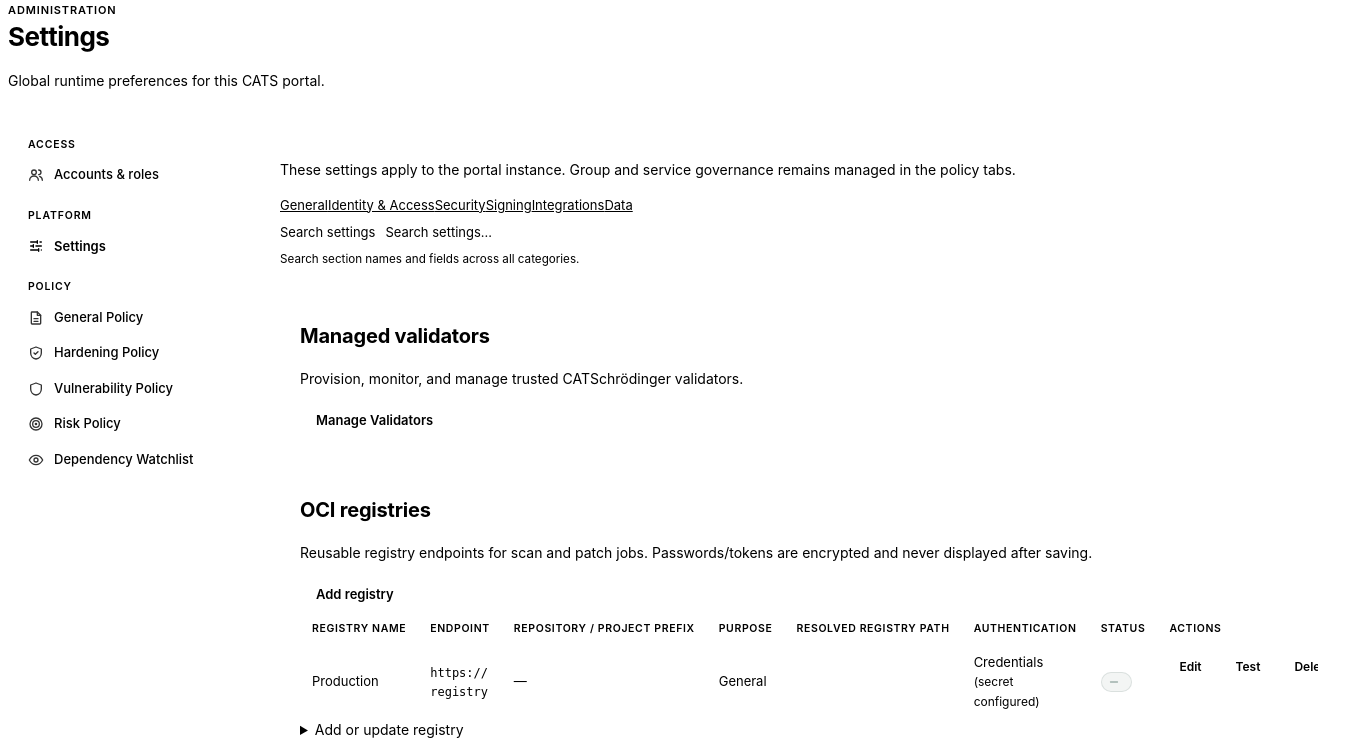
Scenario: native administration workflows › keeps editor credentials blank and preserves forms and unsaved inputs through search
The image size is (1366, 741).
Click the button "Edit" at (1190, 667), box [1169, 653, 1212, 681]
(page scrolled)
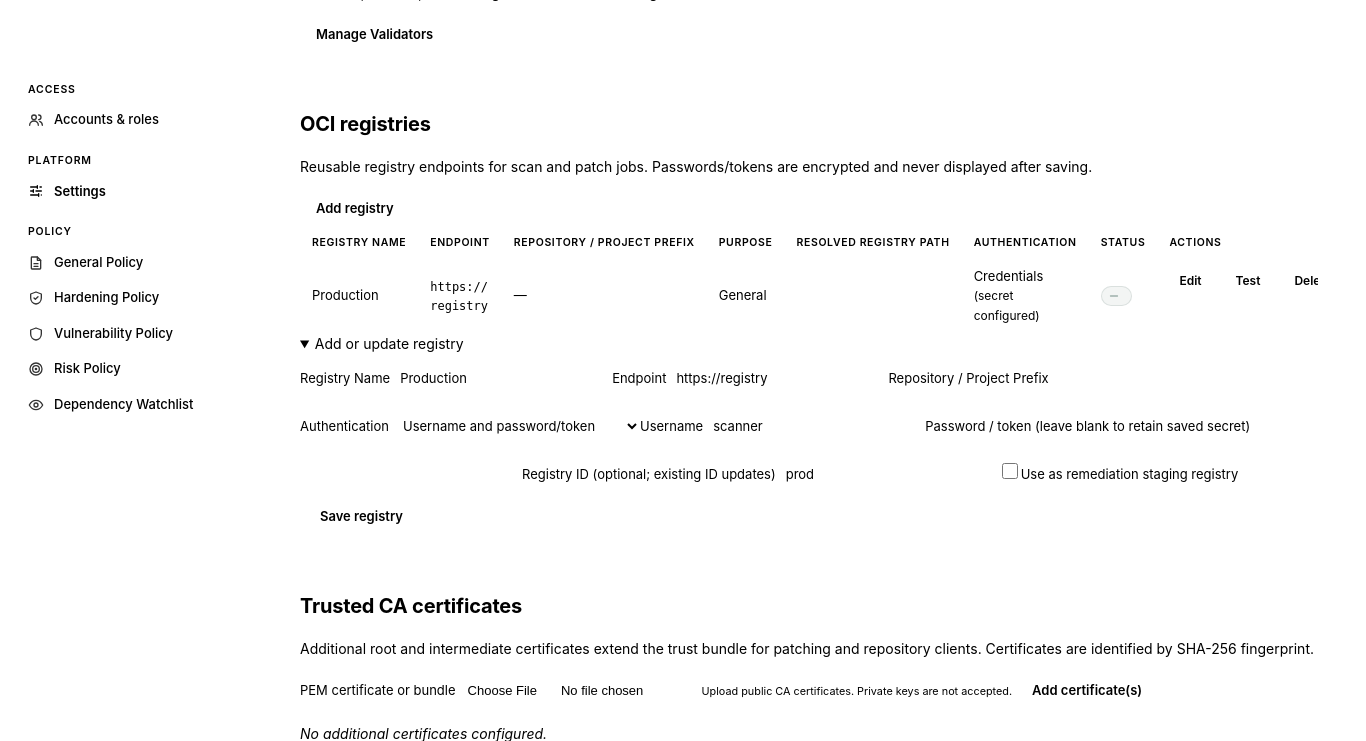
Expected: the form "Test" holds "prod", [1226, 267, 1270, 295]
Expected: the field named "username" holds "scanner", [703, 402, 925, 450]
Replace the text in the field named "display_name" with "Unsaved name" at (501, 378), box [390, 354, 612, 402]
(page scrolled)
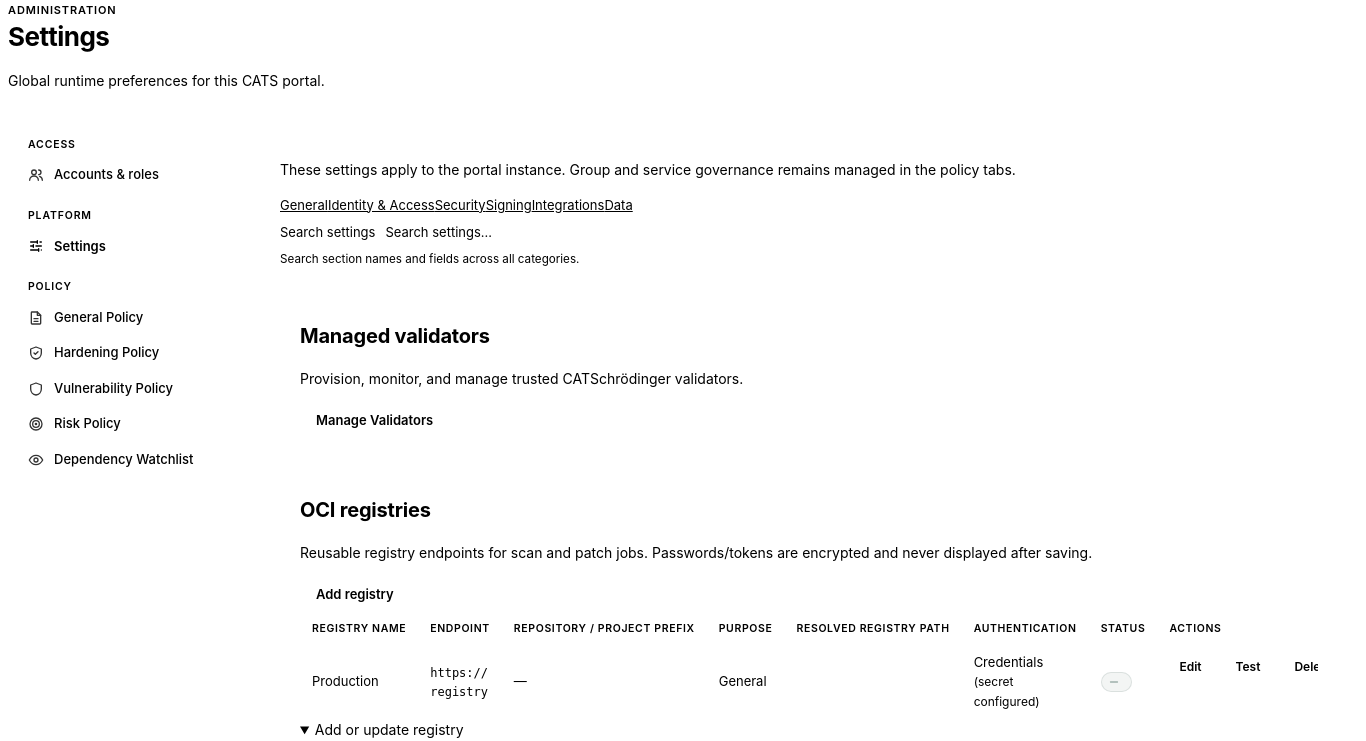
Type "registry" into the search field at (486, 233), box [375, 215, 597, 251]
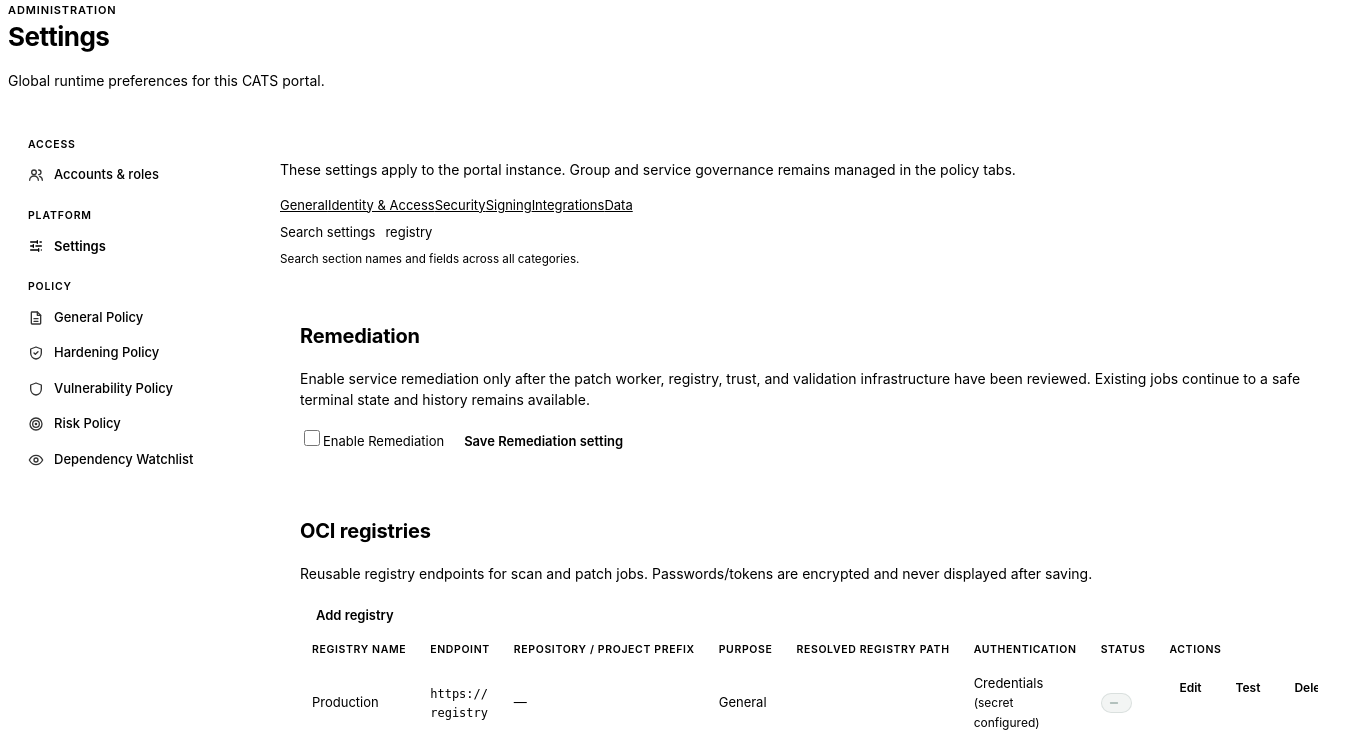
Replace the text in the search field with "no-such-setting" at (486, 233), box [375, 215, 597, 251]
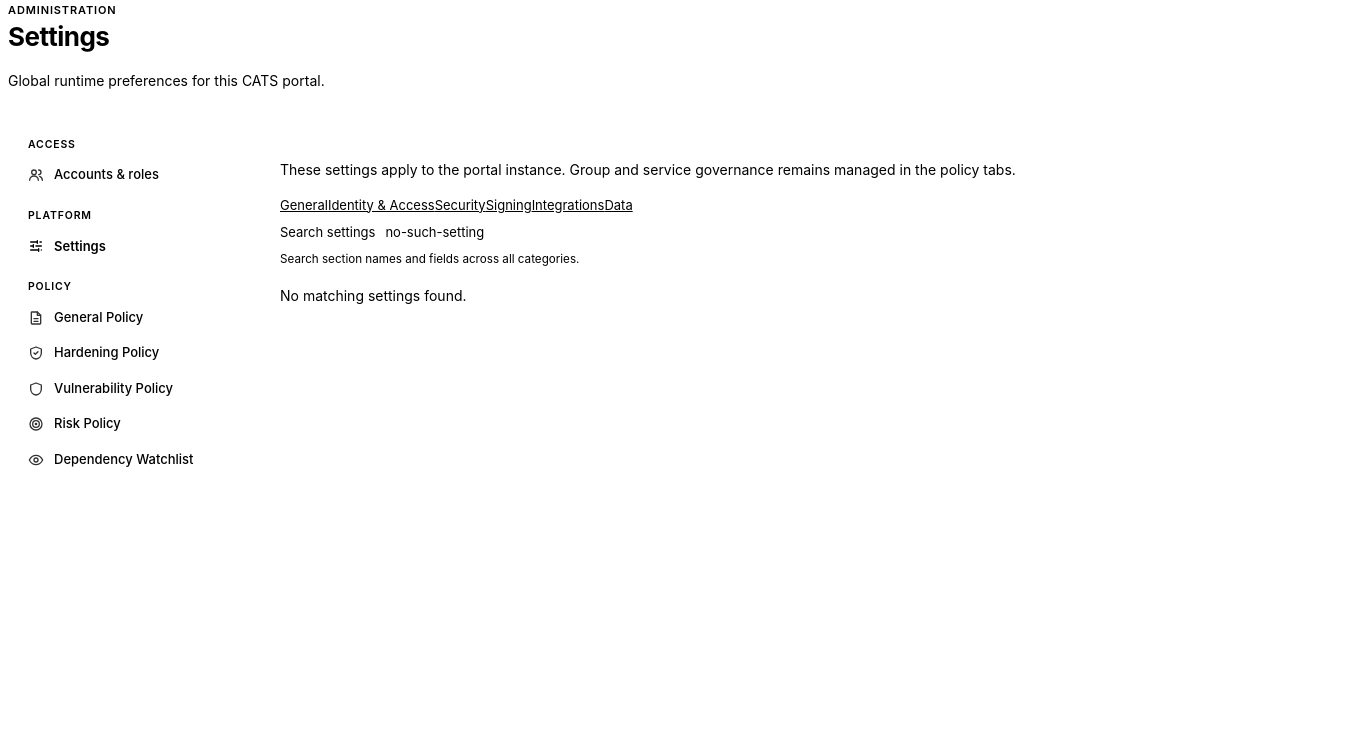
Expected: the text "No matching settings found." is shown, [280, 287, 466, 304]
